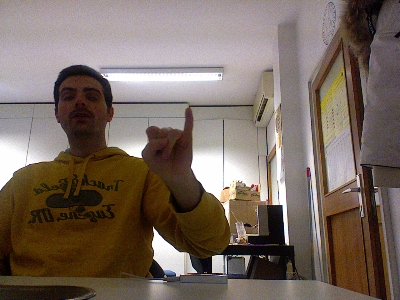小指: (138, 106, 193, 177)
